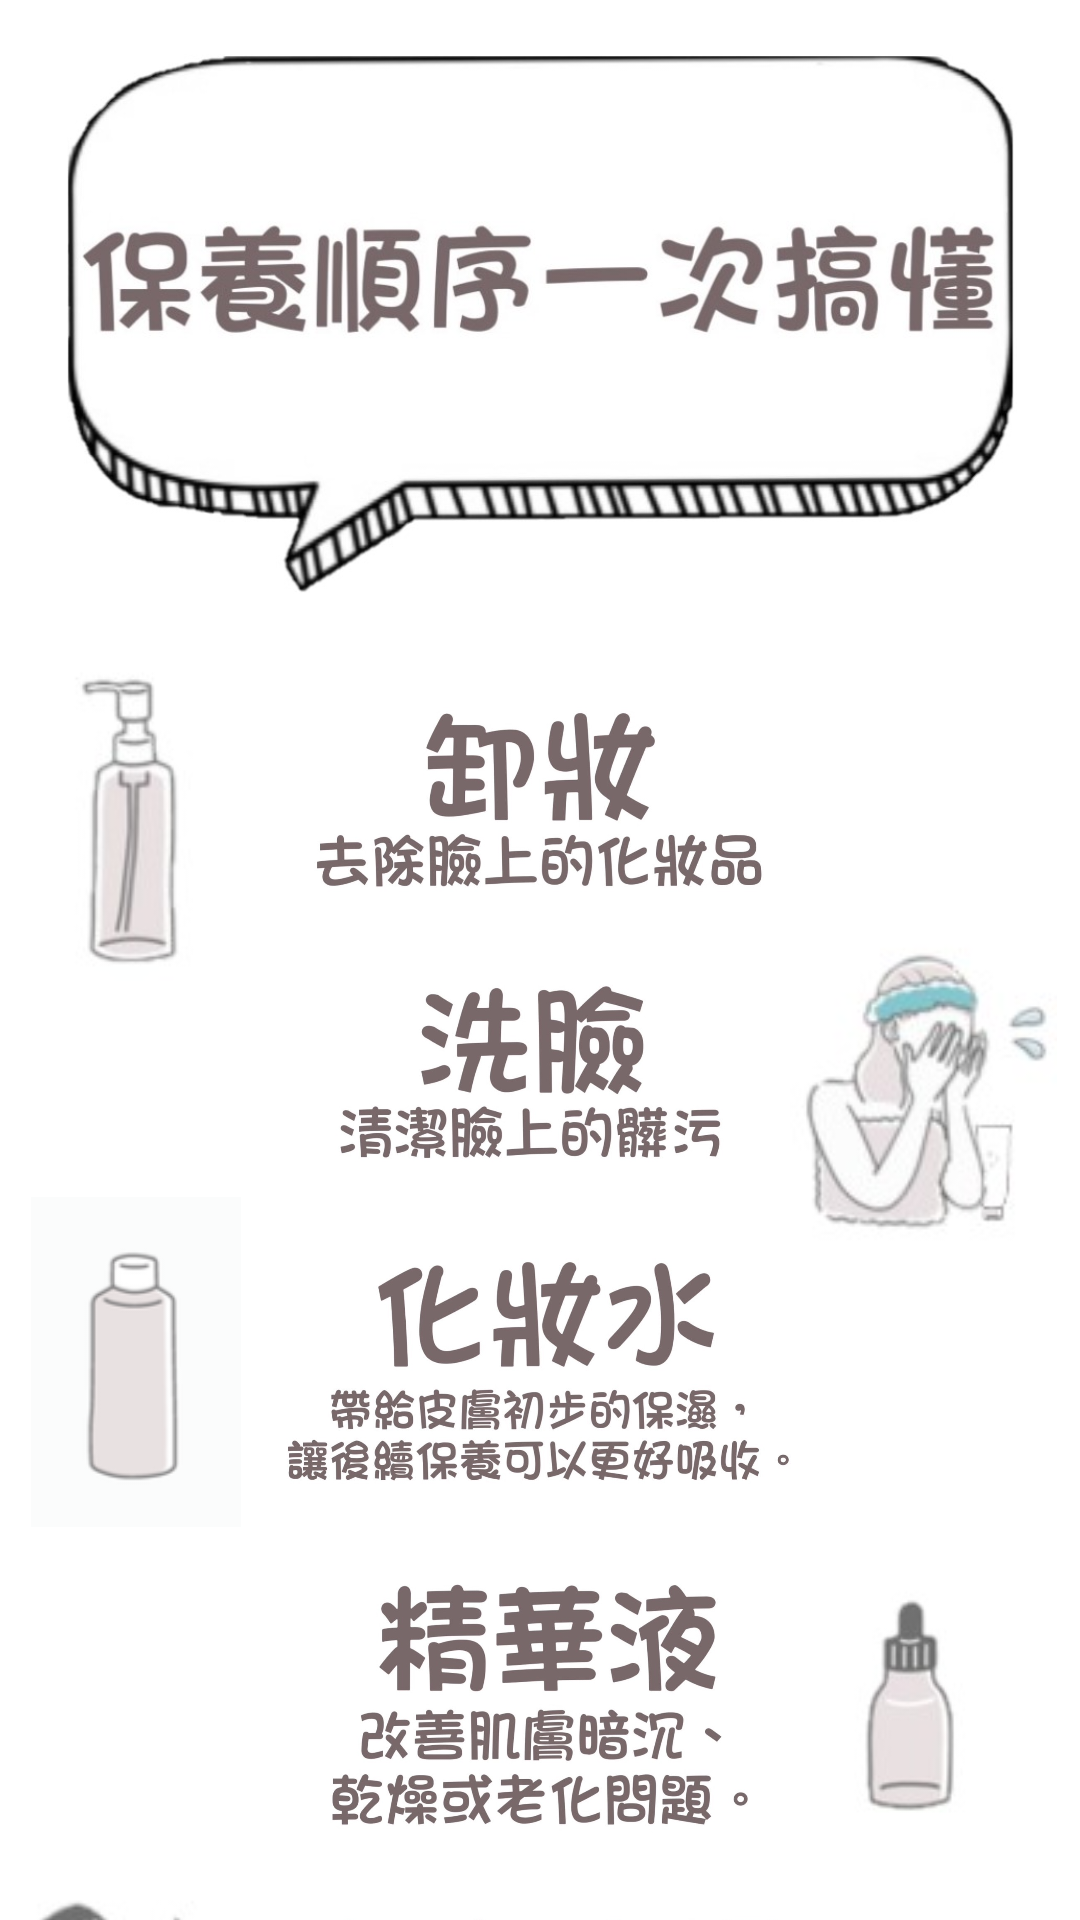

Icon click points for this 1080 x 1920 phone screenshot, format point (x, y):
process essence: point (910, 1705)
process moisture: point (133, 1366)
process takeoff: point (129, 820)
process washing: point (926, 1091)
